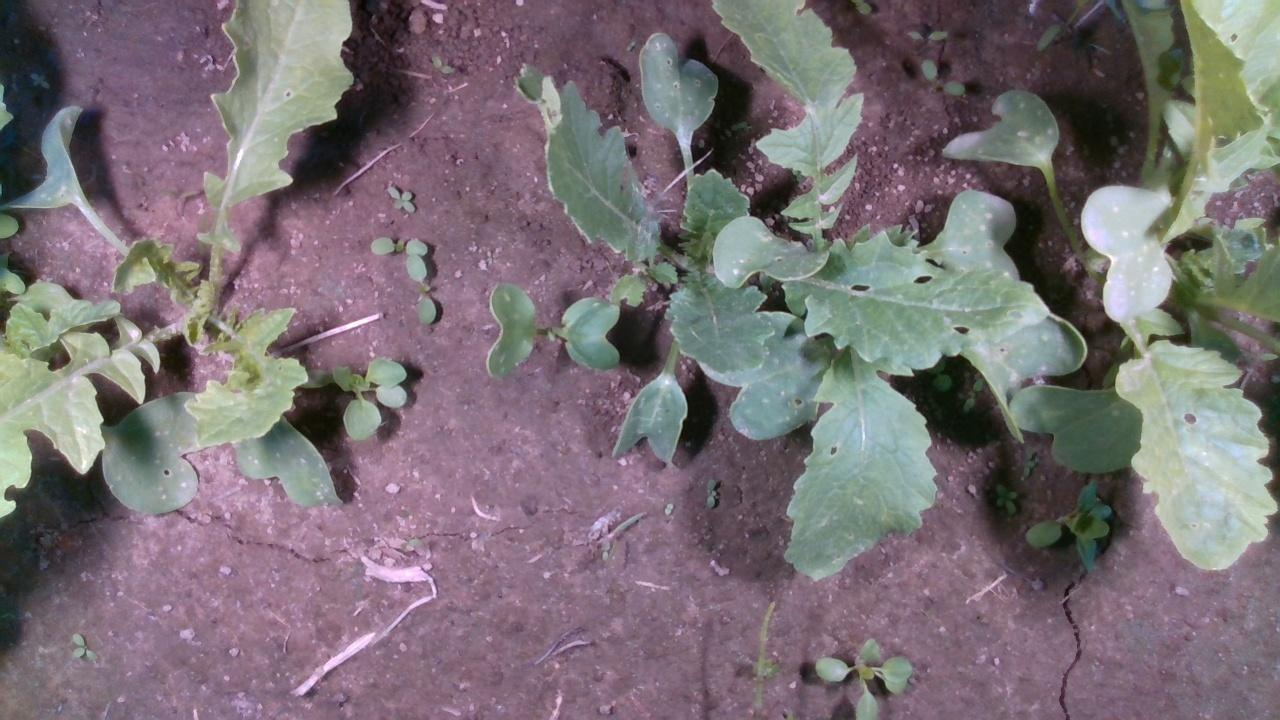weed: (379, 184, 420, 214), (994, 480, 1019, 515), (703, 476, 718, 509)
